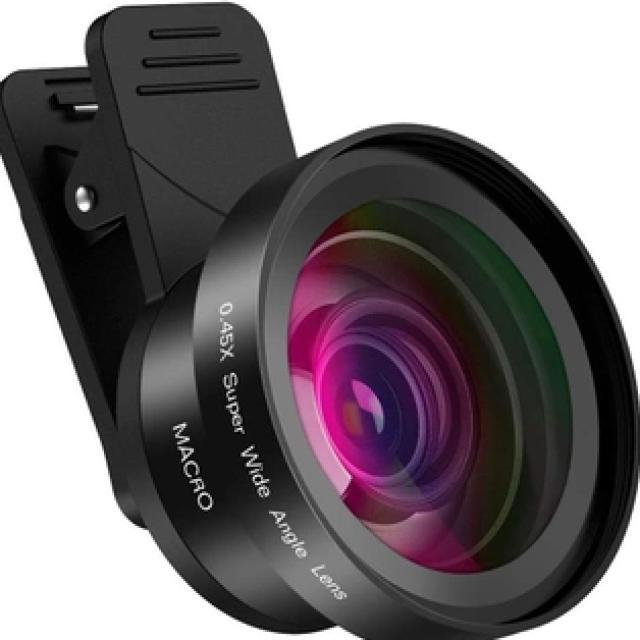hidden camera: (270, 261, 587, 572)
